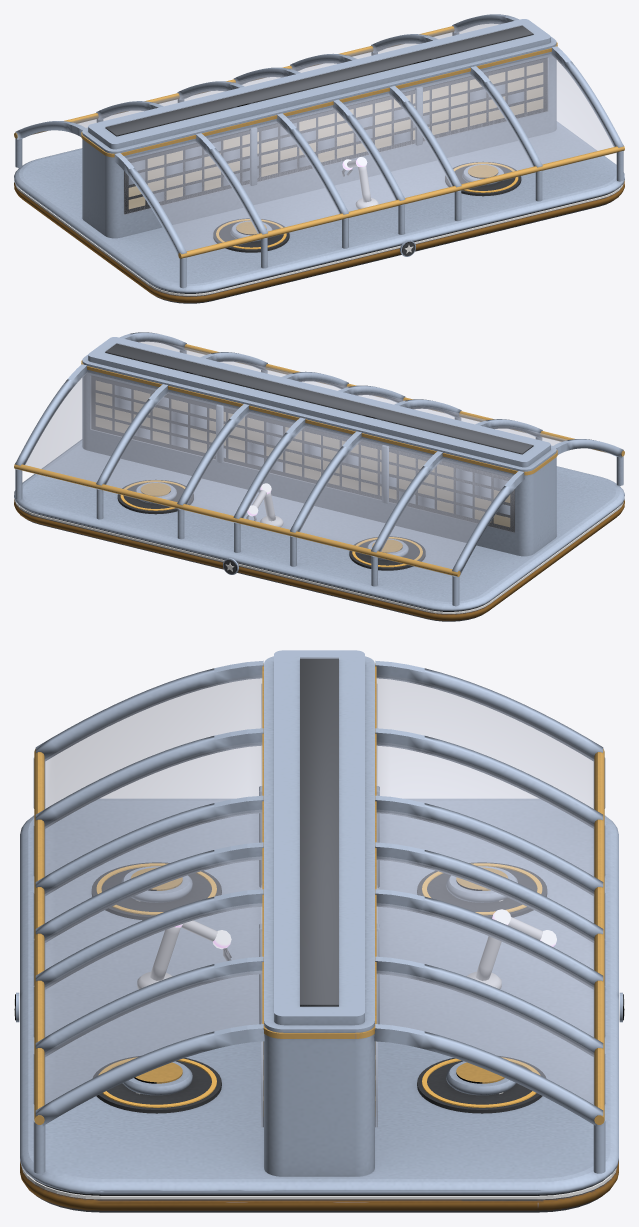
Rendered from SM_Evo_MaintenanceWorks.fbx.
3 renders of one model, top to bottom at view 1: azimuth 30°, elevation 25°; view 2: azimuth 150°, elevation 25°; view 3: azimuth 270°, elevation 25°, orthographic. The views are drawn at different scales.
Parts seen in each view (by area): view 1: SMN_Evo_MaintenanceWorks, Emblem_Fx_MaintenanceWorks, SpinDish_MaintenanceWorksB; view 2: SMN_Evo_MaintenanceWorks, Emblem_Fx_MaintenanceWorks, SpinDish_MaintenanceWorksA; view 3: SMN_Evo_MaintenanceWorks, Emblem_Fx_MaintenanceWorks, SpinDish_MaintenanceWorksB, SpinDish_MaintenanceWorksA.
Part boxes in pixels (x1=…): SMN_Evo_MaintenanceWorks: x1=14, y1=14, x2=624, y2=303; Emblem_Fx_MaintenanceWorks: x1=15, y1=21, x2=623, y2=295; SpinDish_MaintenanceWorksB: x1=342, y1=157, x2=378, y2=209; SMN_Evo_MaintenanceWorks: x1=14, y1=332, x2=624, y2=621; Emblem_Fx_MaintenanceWorks: x1=15, y1=339, x2=623, y2=613; SpinDish_MaintenanceWorksA: x1=246, y1=483, x2=283, y2=527; SMN_Evo_MaintenanceWorks: x1=15, y1=650, x2=623, y2=1212; Emblem_Fx_MaintenanceWorks: x1=14, y1=657, x2=624, y2=1199; SpinDish_MaintenanceWorksB: x1=137, y1=920, x2=231, y2=988; SpinDish_MaintenanceWorksA: x1=466, y1=909, x2=556, y2=988.
Size of the model in its own units: 2.84 by 0.659 by 1.88.
